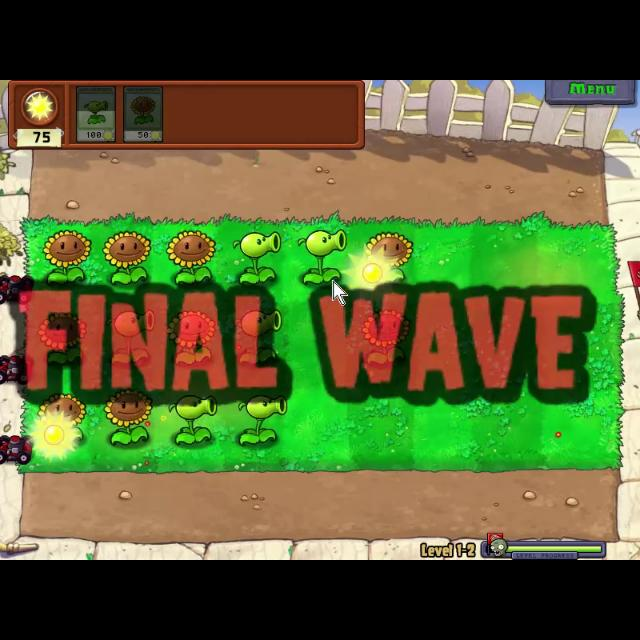Flag Zombie: (626, 256, 640, 320)
Garden: (12, 212, 622, 476)
Menu Button: (545, 80, 637, 104)
Mower: (0, 430, 34, 468), (1, 272, 34, 304), (0, 354, 32, 386)
Peashooter: (74, 84, 118, 146)
Peashooter Seed: (232, 306, 288, 368), (293, 228, 347, 288), (102, 308, 156, 367), (162, 390, 215, 446), (232, 228, 280, 288), (234, 391, 284, 444)
Seed Panel: (6, 80, 368, 152)
Sun: (339, 250, 403, 302), (30, 414, 80, 460)
Sunflower: (122, 83, 164, 145)
Sunflower Seed: (100, 384, 154, 450), (164, 306, 220, 368), (38, 227, 92, 289), (163, 226, 217, 288), (99, 227, 153, 287), (34, 308, 86, 368), (357, 309, 409, 369), (35, 392, 87, 446), (362, 229, 408, 279)
